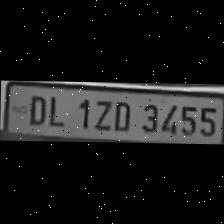1: (70, 96, 92, 130)
3: (136, 100, 158, 133)
4: (158, 100, 178, 136)
5: (176, 101, 196, 135), (197, 103, 217, 136)
D: (110, 97, 132, 131), (24, 92, 46, 125)
L: (43, 93, 66, 127)
Z: (90, 97, 112, 132)
